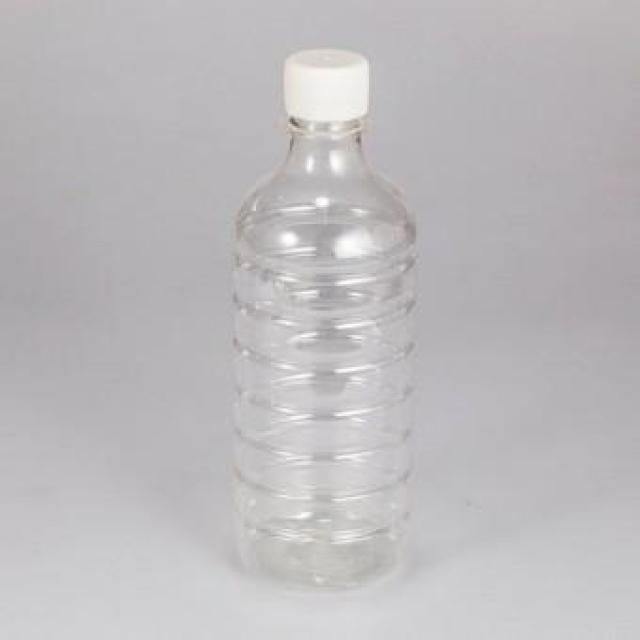bottle: (223, 49, 417, 595)
